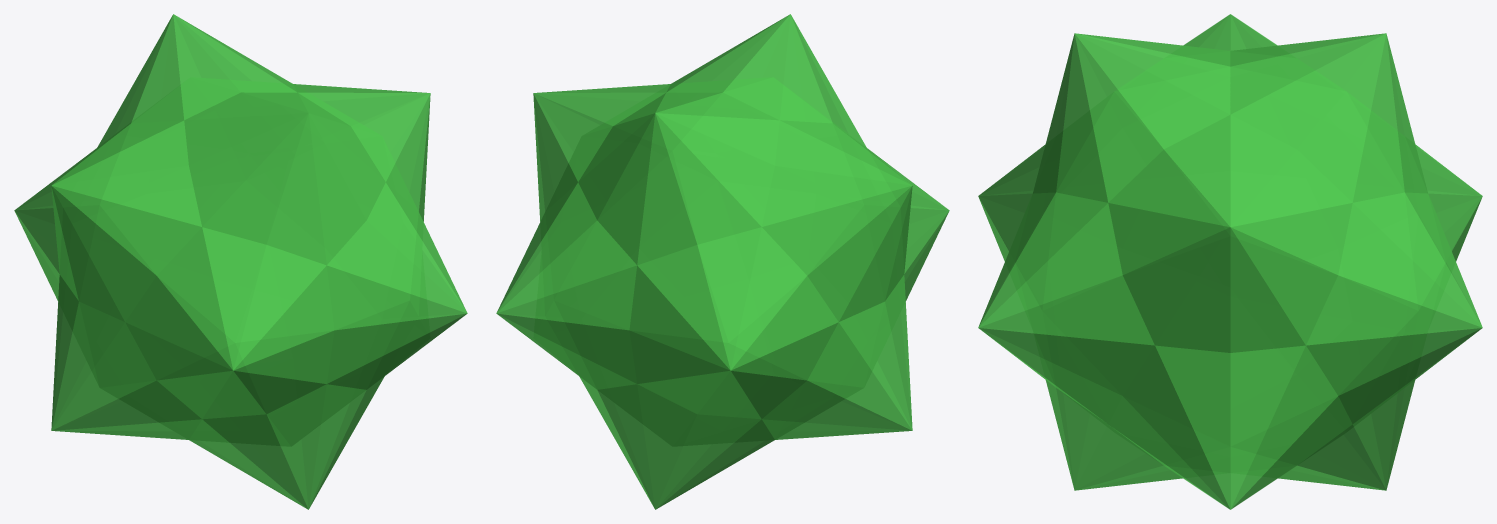
The model's file is SmallDodecacronicHexecontahedron.obj.
The picture shows the model from 3 angles, left to right: view 1: azimuth 30°, elevation 25°; view 2: azimuth 150°, elevation 25°; view 3: azimuth 270°, elevation 25°; orthographic projection. The views are drawn at different scales.
Bounding box in the file's own units: 5.24 × 5.24 × 5.24.
